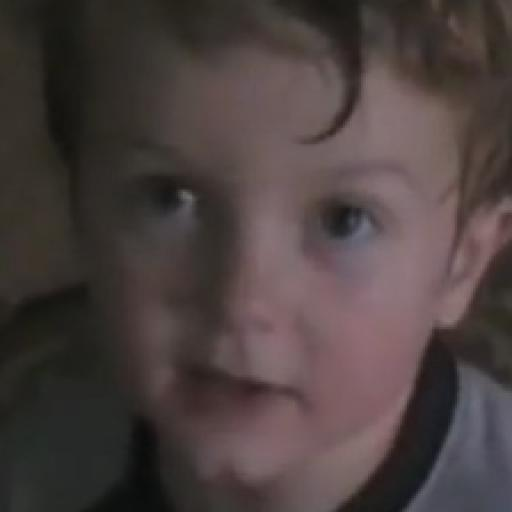Autism: (98, 30, 496, 489)
